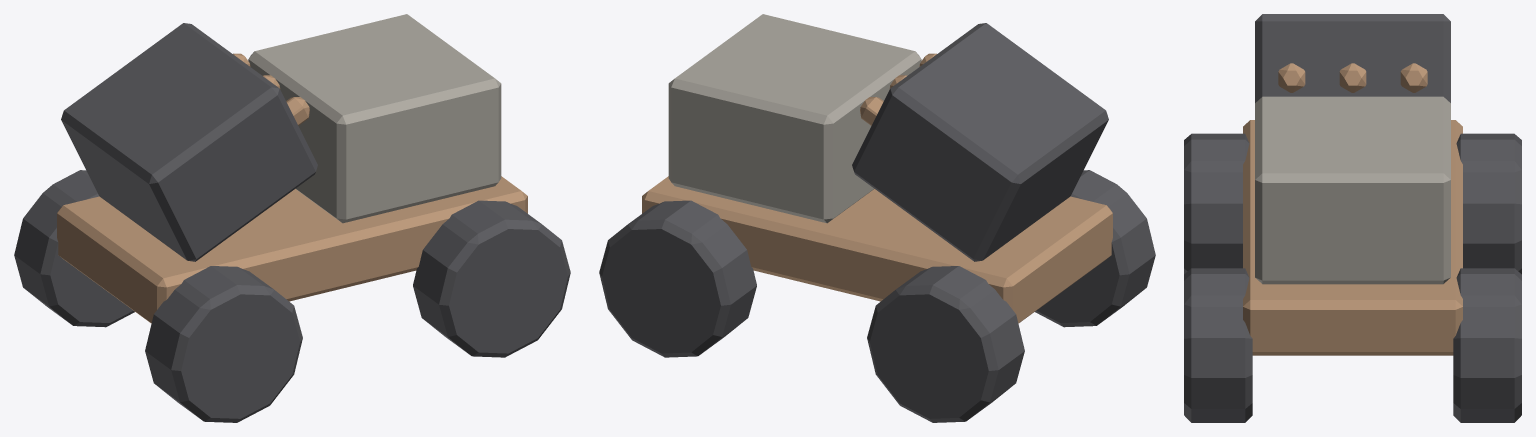
File: rocket_buggy.glb
3 views of the same model, side by side, from view 1: azimuth 30°, elevation 25°; view 2: azimuth 150°, elevation 25°; view 3: azimuth 270°, elevation 25° (orthographic). The views are drawn at different scales.
Parts seen in each view (by area): view 1: Hull, Turret; view 2: Hull, Turret; view 3: Hull, Turret.
Part boxes in pixels (x1=…): Hull: x1=14, y1=14, x2=570, y2=422; Turret: x1=61, y1=23, x2=317, y2=261; Hull: x1=599, y1=14, x2=1155, y2=422; Turret: x1=852, y1=23, x2=1108, y2=261; Hull: x1=1184, y1=96, x2=1521, y2=422; Turret: x1=1255, y1=14, x2=1450, y2=102.
Size of the model in its own units: 1.94 by 1.36 by 1.38.
